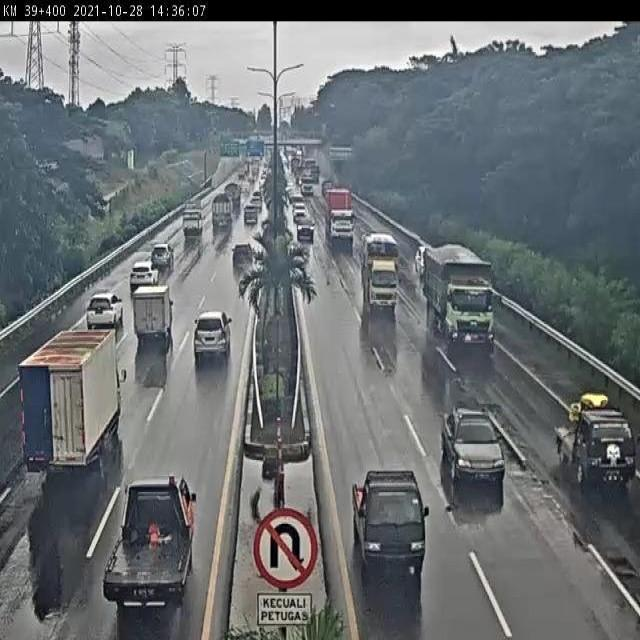big truck: (427, 257, 489, 343), (324, 187, 348, 237), (207, 200, 233, 235), (222, 183, 240, 205)
car: (104, 472, 196, 615), (348, 469, 435, 579), (561, 389, 638, 496), (442, 403, 506, 481), (184, 309, 234, 388), (75, 288, 115, 351), (151, 244, 179, 277), (231, 241, 253, 283), (128, 264, 155, 292), (415, 247, 437, 273), (297, 220, 316, 239), (290, 201, 305, 219), (247, 210, 256, 234), (250, 201, 258, 215)
small truck: (23, 328, 134, 500), (127, 281, 166, 352), (367, 255, 395, 297), (171, 217, 195, 243)
